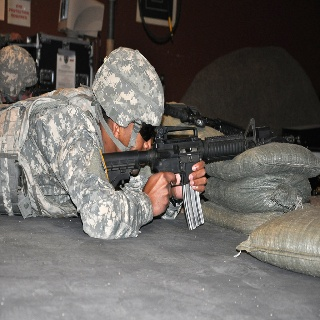rifle: (100, 116, 302, 231)
